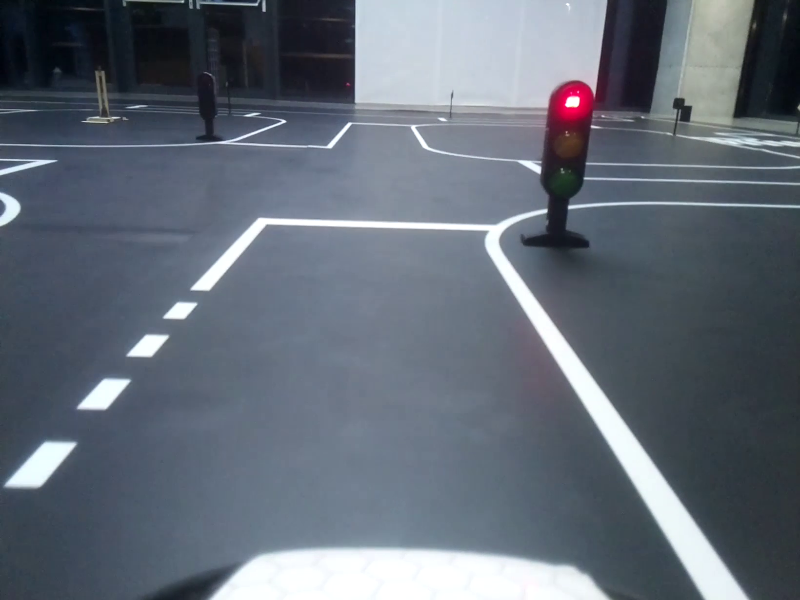traffic_red: (541, 82, 594, 202)
